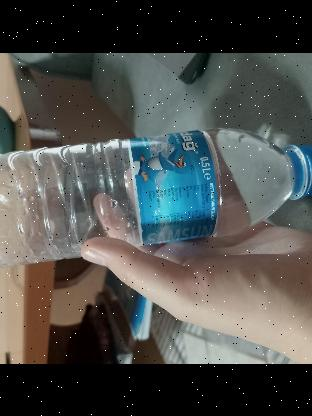Plastic Bottle: (0, 125, 312, 270)
